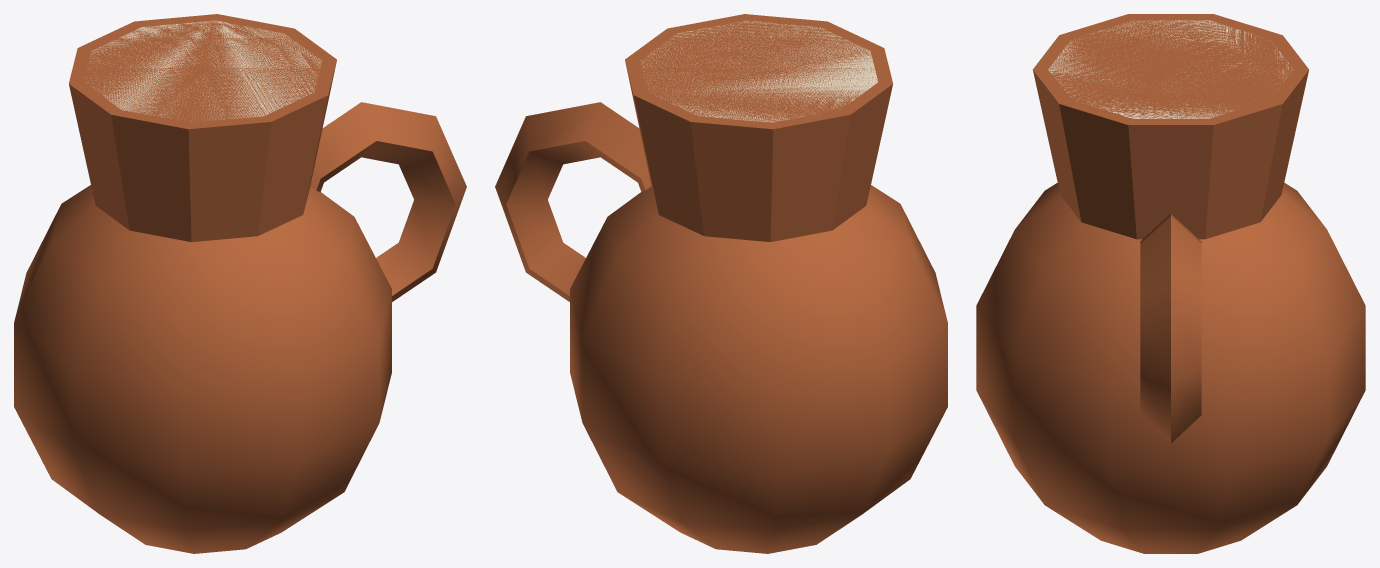
File: PR_Drink_Sut.fbx
The picture shows the model from 3 angles, left to right: view 1: azimuth 30°, elevation 25°; view 2: azimuth 150°, elevation 25°; view 3: azimuth 270°, elevation 25°; orthographic projection.
Visible parts, largest first — view 1: PR_Drink_Sut; view 2: PR_Drink_Sut; view 3: PR_Drink_Sut.
Boxes of the visible parts, <box> form: PR_Drink_Sut: <box>14,14,466,553</box>; PR_Drink_Sut: <box>495,14,947,553</box>; PR_Drink_Sut: <box>976,14,1365,553</box>.
Size of the model in its own units: 0.1603 by 0.1683 by 0.1267.
1 material, 1 textured.
